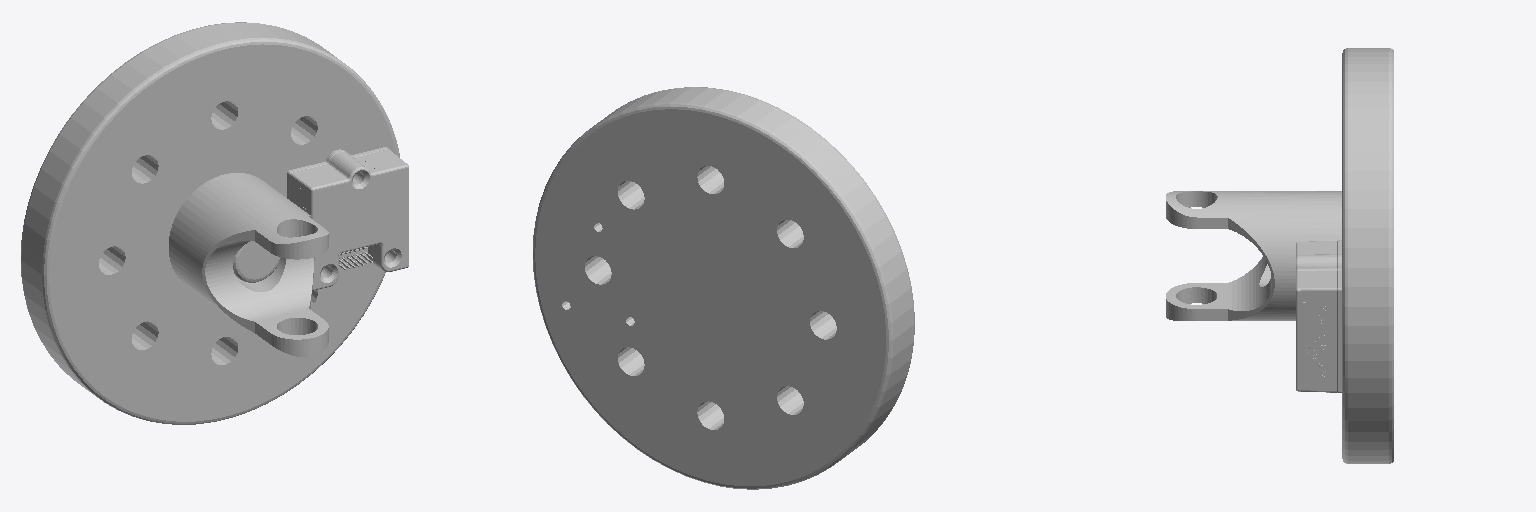
The model's file is cj_asm_half_vis.obj.
The picture shows the model from 3 angles: view 1: azimuth 30°, elevation 25°; view 2: azimuth 150°, elevation 25°; view 3: azimuth 270°, elevation 25°; orthographic projection.
Bounding box in the file's own units: 0.08 × 0.0799 × 0.044.